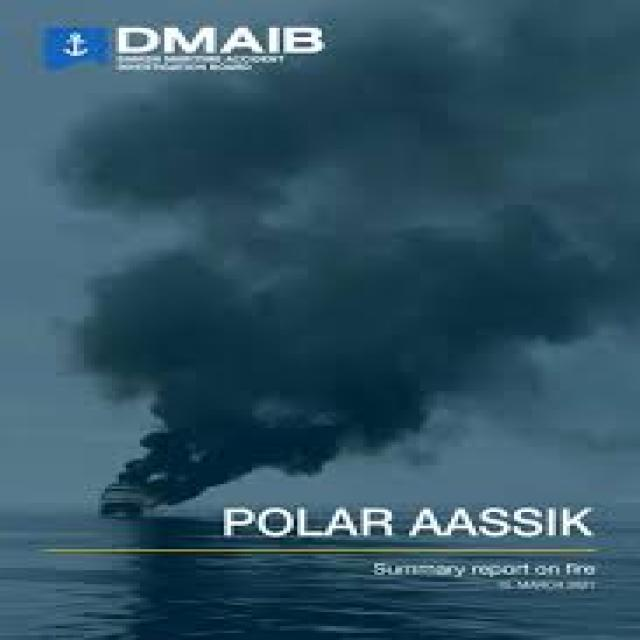fire: (73, 210, 619, 502), (332, 5, 640, 470), (63, 75, 640, 207)
